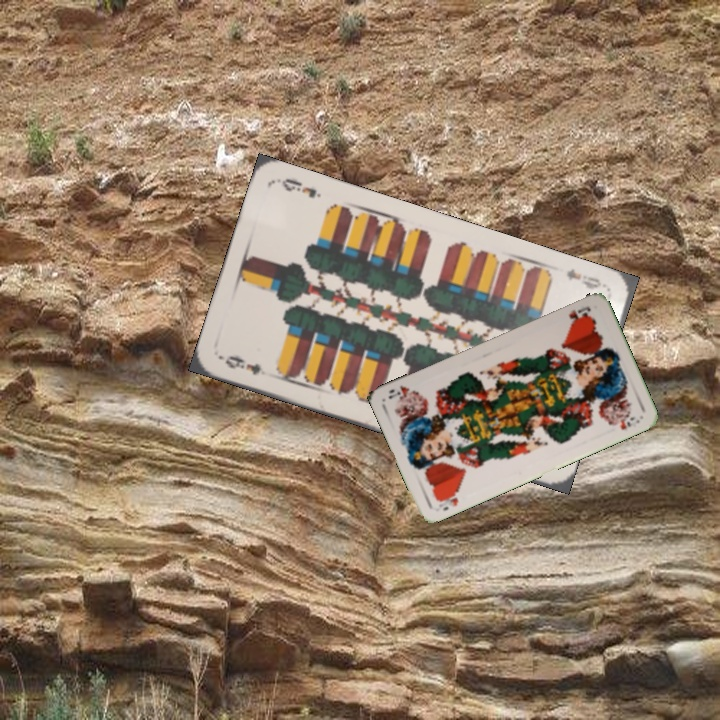E9: (562, 264, 609, 293), (218, 351, 264, 378)
HO: (433, 487, 462, 513), (565, 302, 593, 327)
